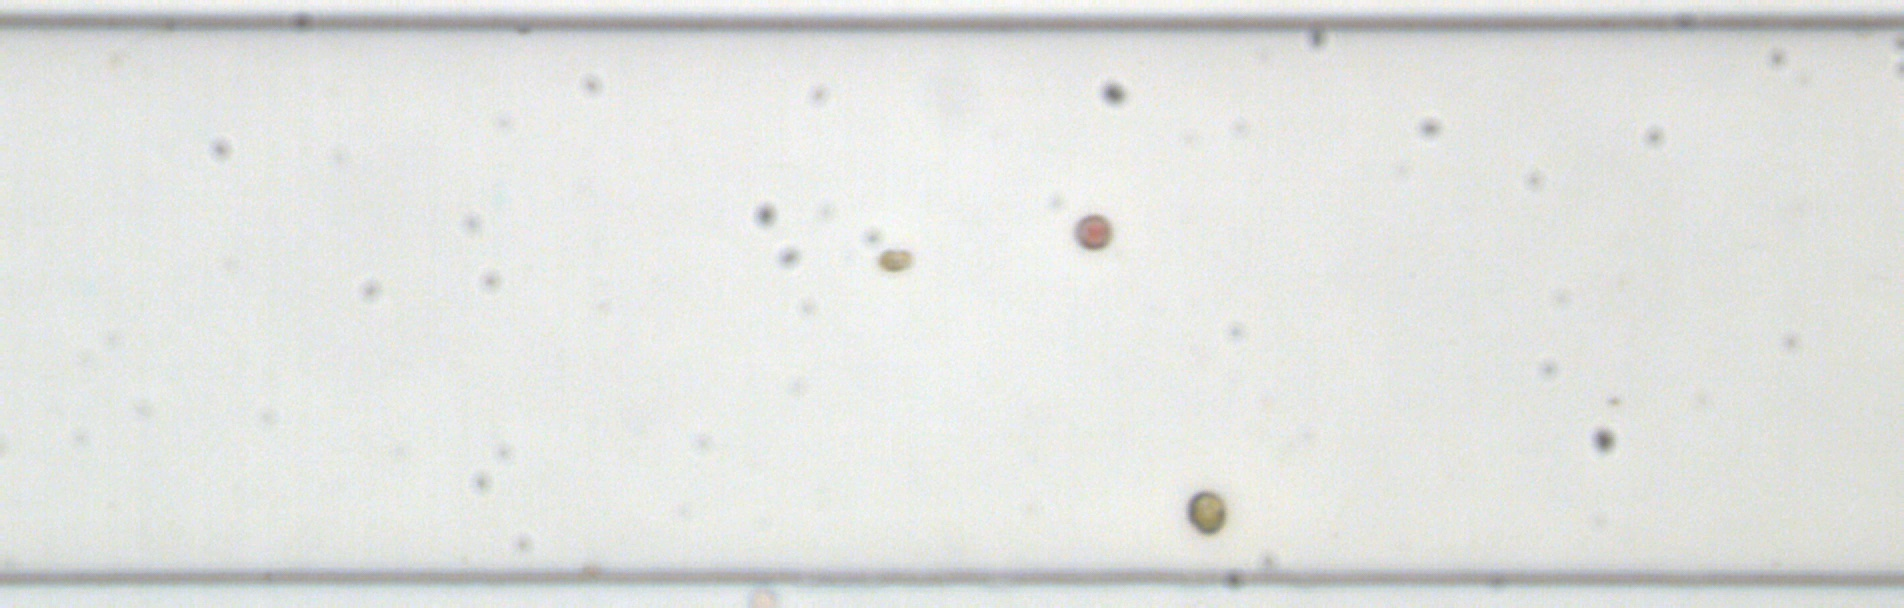Dunaliella salina: (875, 246, 916, 271)
Effrenium: (1181, 485, 1231, 536)
Porphyridium: (1071, 210, 1113, 251)
